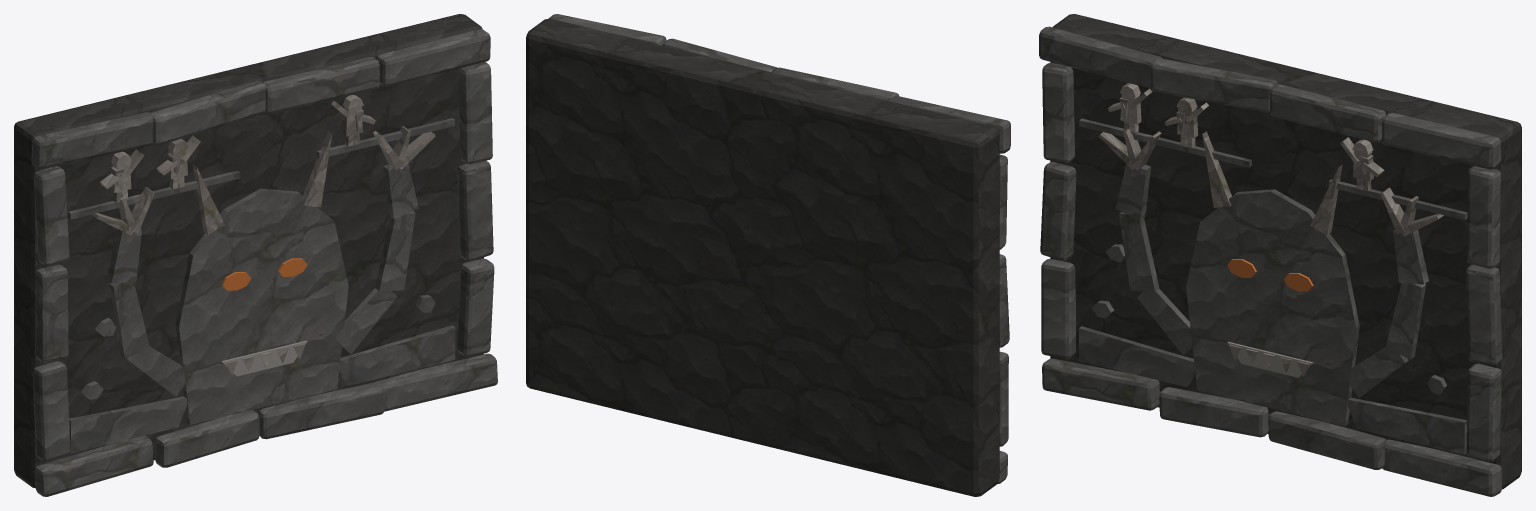
Rendered from wall_carving_3.glb.
The picture shows the model from 3 angles, left to right: view 1: azimuth 30°, elevation 25°; view 2: azimuth 150°, elevation 25°; view 3: azimuth 330°, elevation 25°; orthographic projection.
Visible parts, largest first — view 1: model; view 2: model; view 3: model.
Boxes of the visible parts, x1,y1,x2,y2 form: model: (14,14,497,496); model: (526,14,1010,496); model: (1039,14,1521,496).
Bounding box in the file's own units: 1.62 × 1.21 × 0.2087.
Materials: 5 (3 with a texture image).
